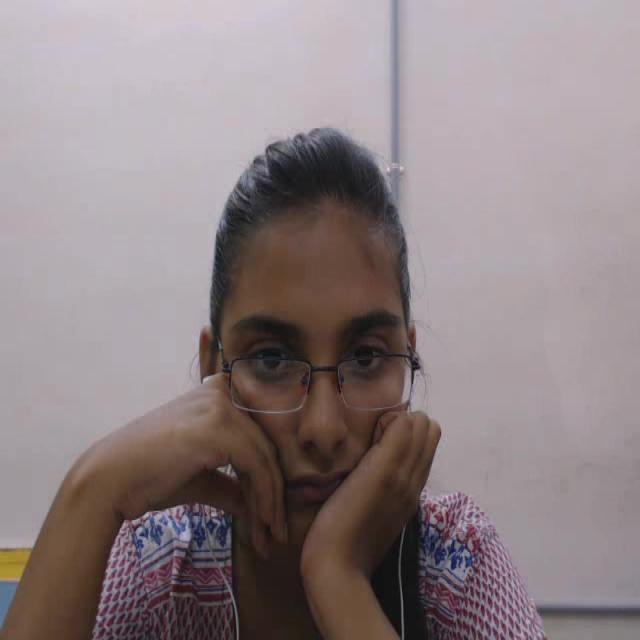Bored: (177, 94, 470, 584)
